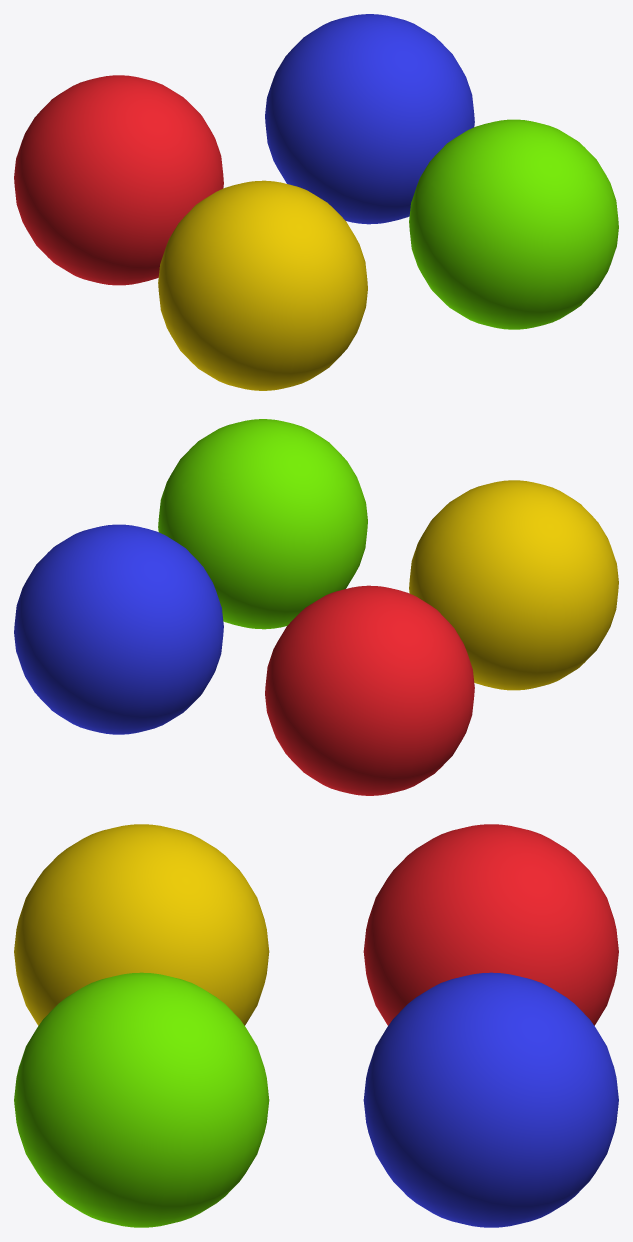
File: materials.gltf
The picture shows the model from 3 angles, top to bottom: view 1: azimuth 30°, elevation 25°; view 2: azimuth 150°, elevation 25°; view 3: azimuth 270°, elevation 25°; orthographic projection. The views are drawn at different scales.
Visible parts, largest first — view 1: Sphere.003, Sphere.002, Sphere.001, Sphere; view 2: Sphere.001, Sphere, Sphere.003, Sphere.002; view 3: Sphere, Sphere.002, Sphere.001, Sphere.003.
Part boxes in pixels (left/top/right/bottom): Sphere.003: left=158, top=180, right=367, bottom=390; Sphere.002: left=409, top=119, right=618, bottom=329; Sphere.001: left=14, top=75, right=223, bottom=285; Sphere: left=265, top=14, right=474, bottom=224; Sphere.001: left=265, top=585, right=474, bottom=795; Sphere: left=14, top=524, right=223, bottom=734; Sphere.003: left=409, top=480, right=618, bottom=690; Sphere.002: left=158, top=419, right=367, bottom=629; Sphere: left=363, top=972, right=618, bottom=1227; Sphere.002: left=14, top=972, right=269, bottom=1227; Sphere.001: left=363, top=824, right=618, bottom=1025; Sphere.003: left=14, top=824, right=269, bottom=1025.
Bounding box in the file's own units: 4.75 × 2 × 4.74.
